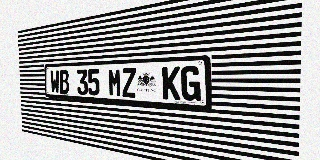3: (77, 69, 88, 95)
5: (88, 69, 100, 96)
B: (59, 70, 69, 94)
G: (181, 66, 201, 101)
K: (162, 66, 180, 100)
M: (108, 68, 122, 97)
W: (50, 70, 60, 94)
Z: (122, 68, 136, 98)
